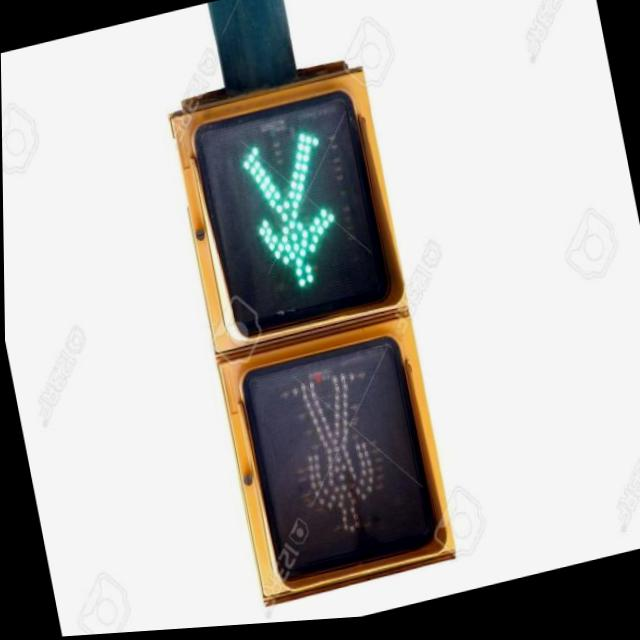green_light: (209, 110, 379, 318)
